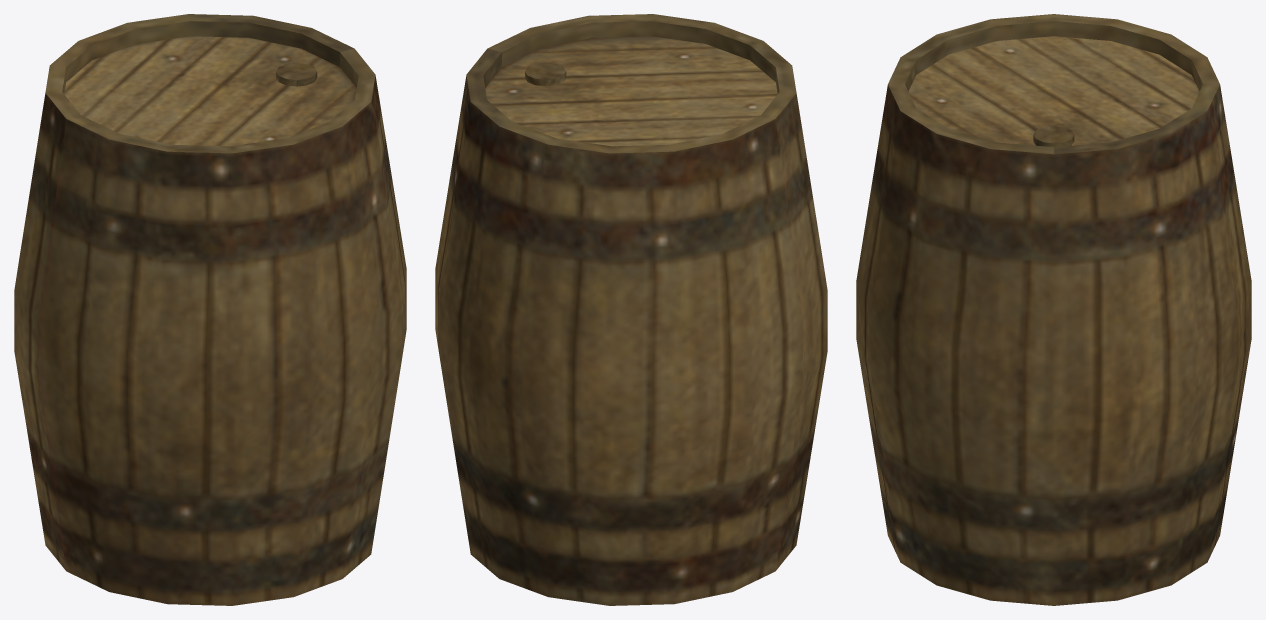
File: BarrelClosed.glb
3 views of the same model, side by side, from view 1: azimuth 30°, elevation 25°; view 2: azimuth 150°, elevation 25°; view 3: azimuth 270°, elevation 25° (orthographic).
Visible parts, largest first — view 1: BarrelClosed; view 2: BarrelClosed; view 3: BarrelClosed.
Part boxes in pixels (<box>): BarrelClosed: <box>14,14,406,605</box>; BarrelClosed: <box>435,14,827,605</box>; BarrelClosed: <box>856,14,1251,605</box>.
Size of what is drawn, in the model's own units: 0.932 by 1.18 by 0.932.
1 material, 1 textured.
